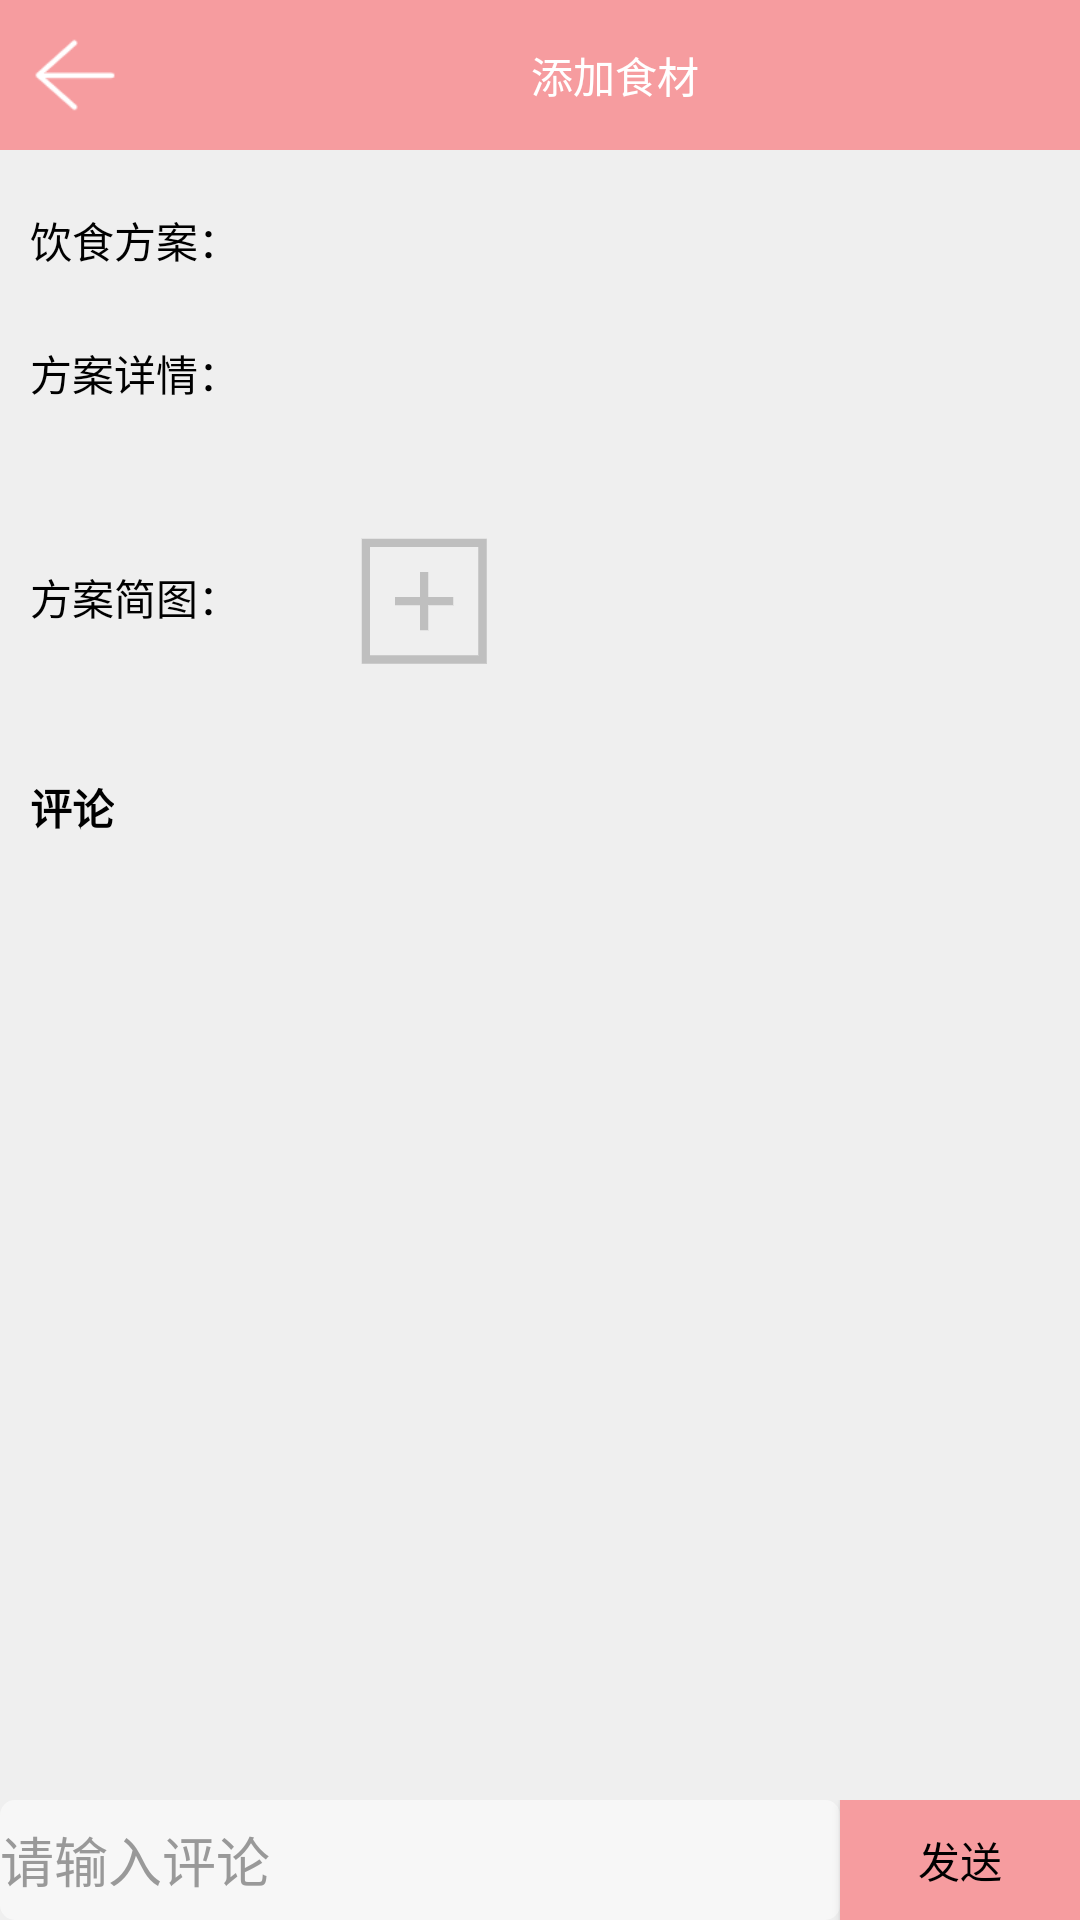

Point at icon controls on the screen. Image size 1080px x 1920px, points as (x,y).
add: (424,601)
back: (75,75)
